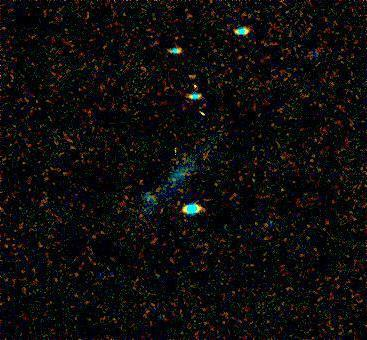star: (178, 61, 208, 91)
